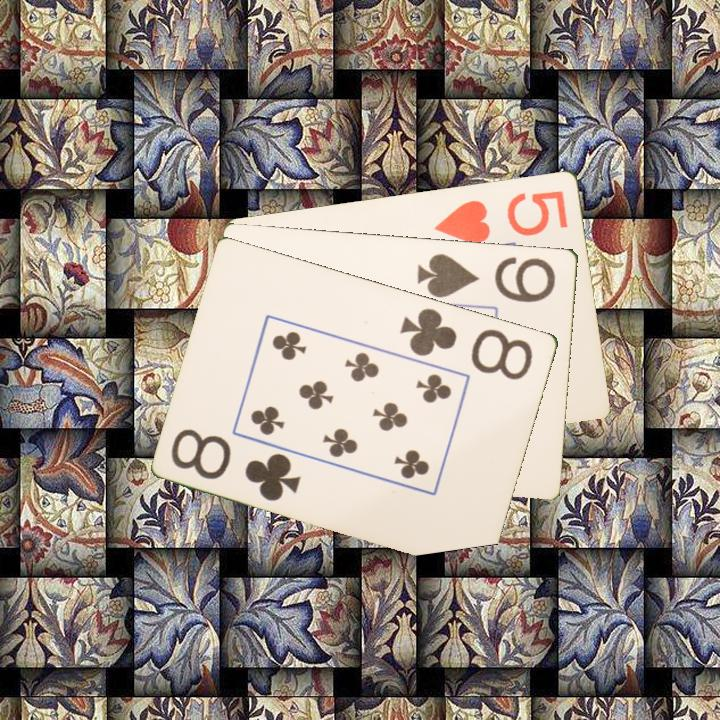5h: (431, 186, 571, 246)
8c: (397, 304, 536, 383), (168, 424, 304, 504)
9s: (414, 249, 559, 305)
